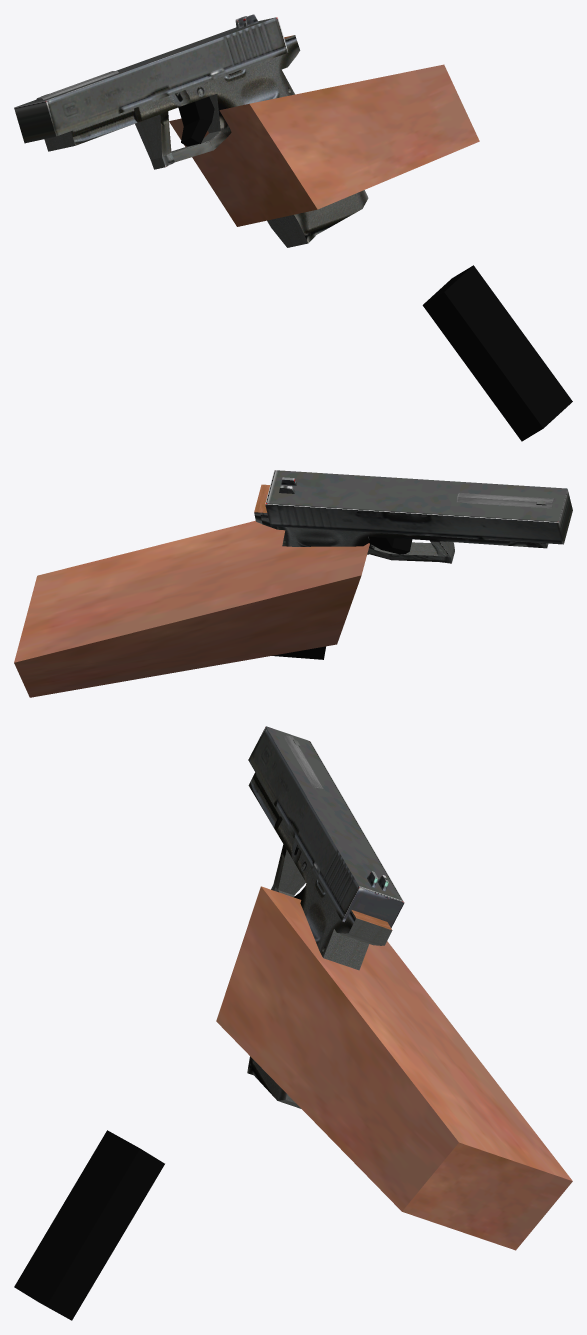
File: pistol_000029.obj
3 renders of one model, top to bottom at view 1: azimuth 30°, elevation 25°; view 2: azimuth 150°, elevation 25°; view 3: azimuth 270°, elevation 25°, orthographic. The views are drawn at different scales.
Parts seen in each view (by area): view 1: Cube, Cube.001, Cube.002, Cube.003; view 2: Cube, Cube.001, Cube.003, Cube.002; view 3: Cube, Cube.001, Cube.002.
Part boxes in pixels (x1,y1,x2,y2): Cube: (35, 35, 479, 247); Cube.001: (14, 14, 288, 143); Cube.002: (422, 265, 572, 441); Cube.003: (178, 96, 214, 146); Cube: (14, 484, 554, 697); Cube.001: (265, 470, 572, 544); Cube.003: (368, 536, 412, 554); Cube.002: (272, 646, 325, 659); Cube: (216, 735, 572, 1250); Cube.001: (248, 726, 404, 927); Cube.002: (14, 1130, 164, 1320).
Bounding box in the file's own units: 1.74 × 1.16 × 1.54.
